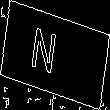N_S: (40, 26, 70, 84)
